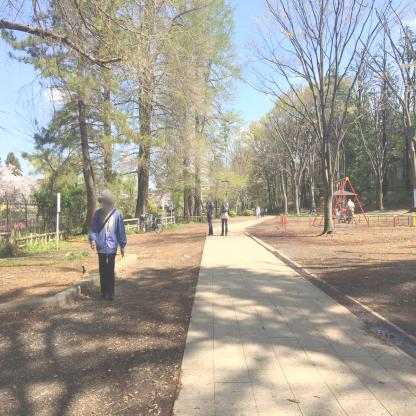Someiyoshino: (0, 150, 44, 208), (119, 187, 173, 209)
